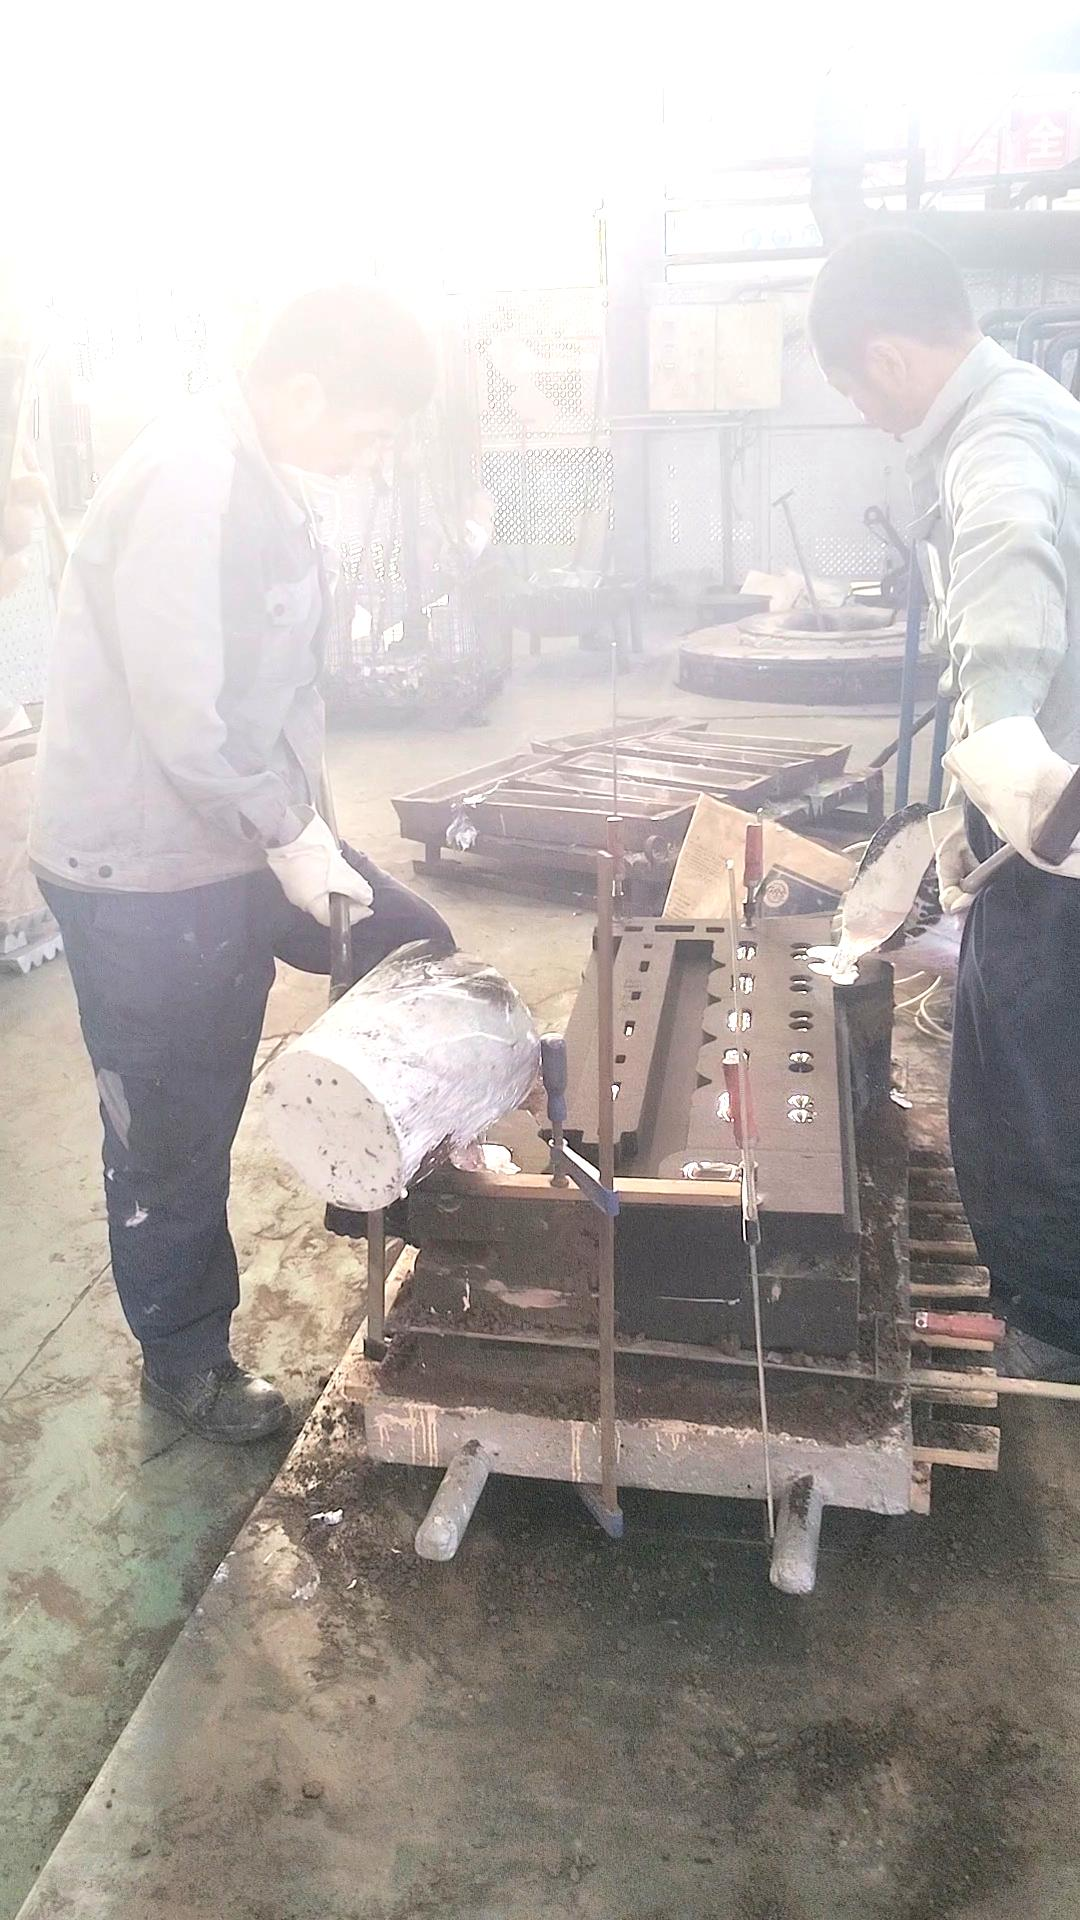pouring hole: (444, 1142, 512, 1171), (811, 960, 861, 976)
